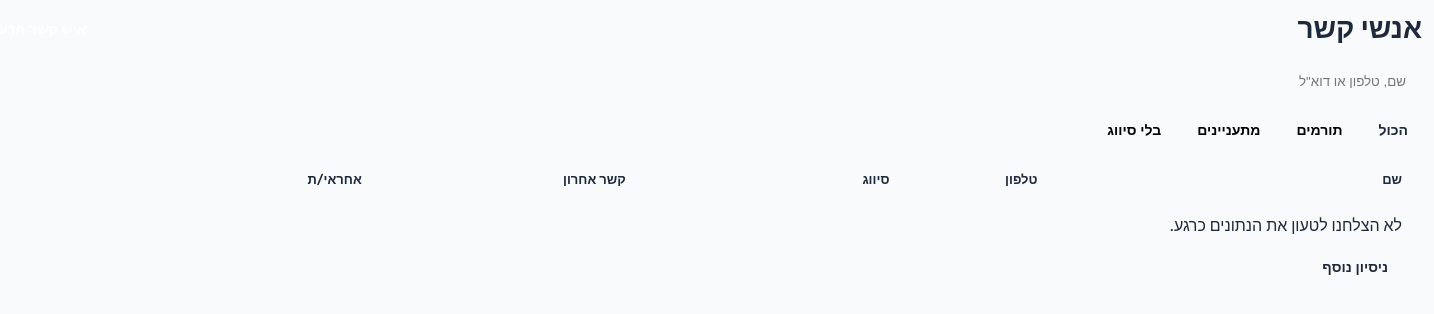
Scenario: MgmtContactsPage › offers a retry when loading fails
This screenshot has width=1434, height=314.
Check: the text "לא הצלחנו לטעון את הנתונים כרגע." is shown, box left=1170, top=214, right=1402, bottom=238
Click the button "ניסיון נוסף" at (1355, 266), box left=1308, top=250, right=1402, bottom=284
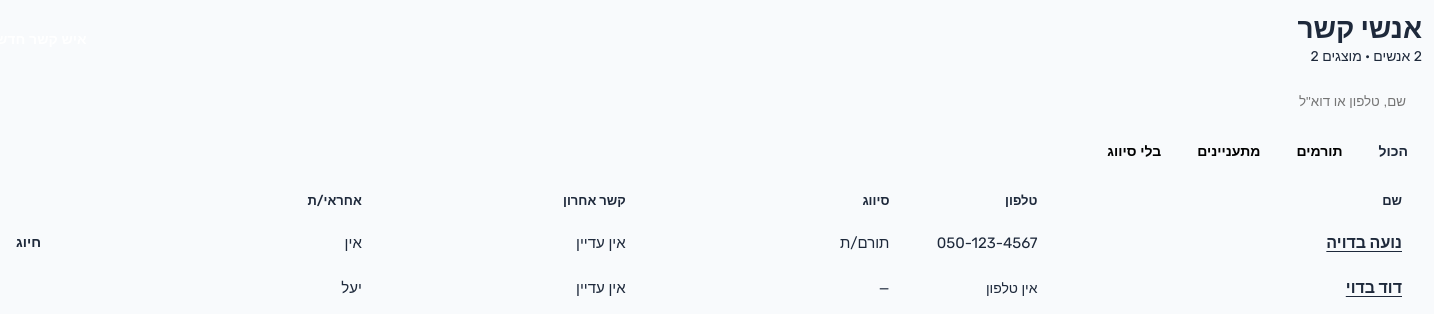
Check: the link "נועה בדויה" is shown, box left=1326, top=233, right=1402, bottom=252
